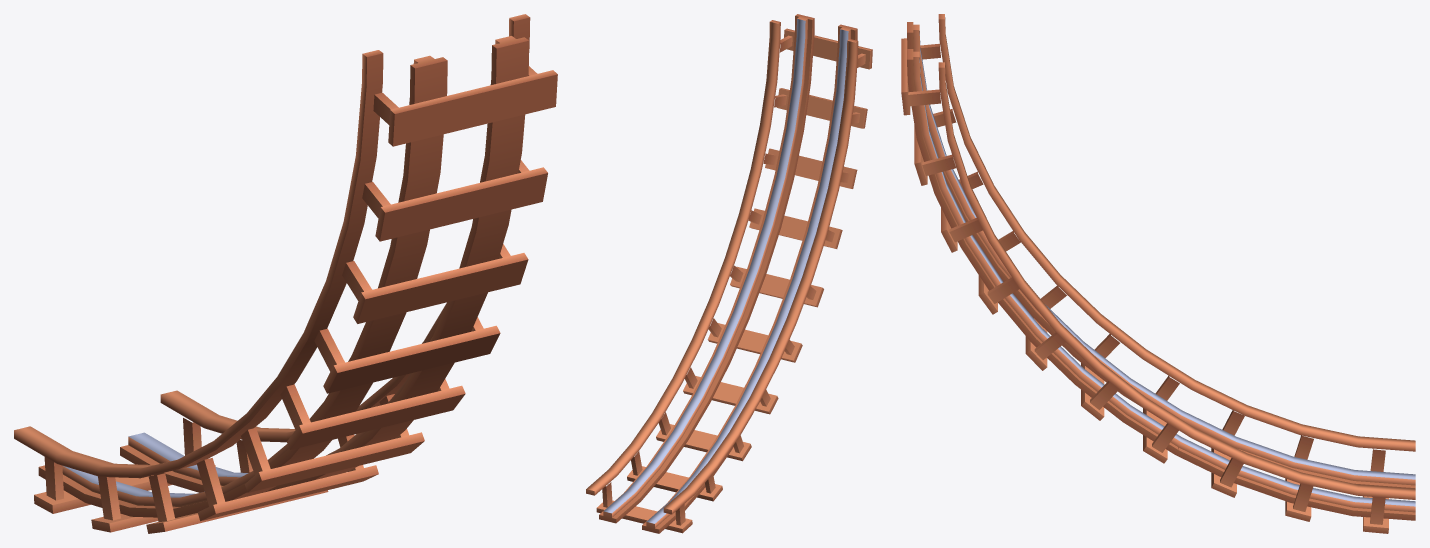
File: kenney-coaster-coaster-wood-straight-bend-large.glb
3 views of the same model, side by side, from view 1: azimuth 30°, elevation 25°; view 2: azimuth 150°, elevation 25°; view 3: azimuth 270°, elevation 25° (orthographic). The views are drawn at different scales.
Visible parts, largest first — view 1: coaster-wood-straight-bend-large; view 2: coaster-wood-straight-bend-large; view 3: coaster-wood-straight-bend-large.
Part boxes in pixels (x1=…): coaster-wood-straight-bend-large: x1=14, y1=14, x2=557, y2=533; coaster-wood-straight-bend-large: x1=586, y1=14, x2=872, y2=533; coaster-wood-straight-bend-large: x1=901, y1=14, x2=1415, y2=533.
Bounding box in the file's own units: 1 × 4.04 × 4.04.
1 material, 1 textured.
